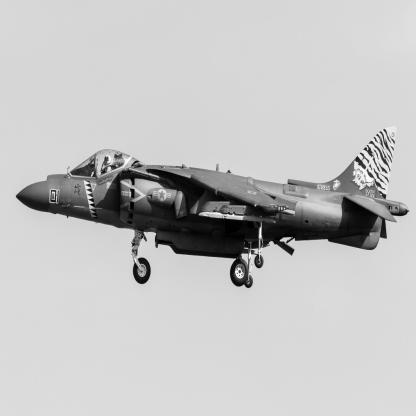AV8B: (17, 127, 411, 289)
